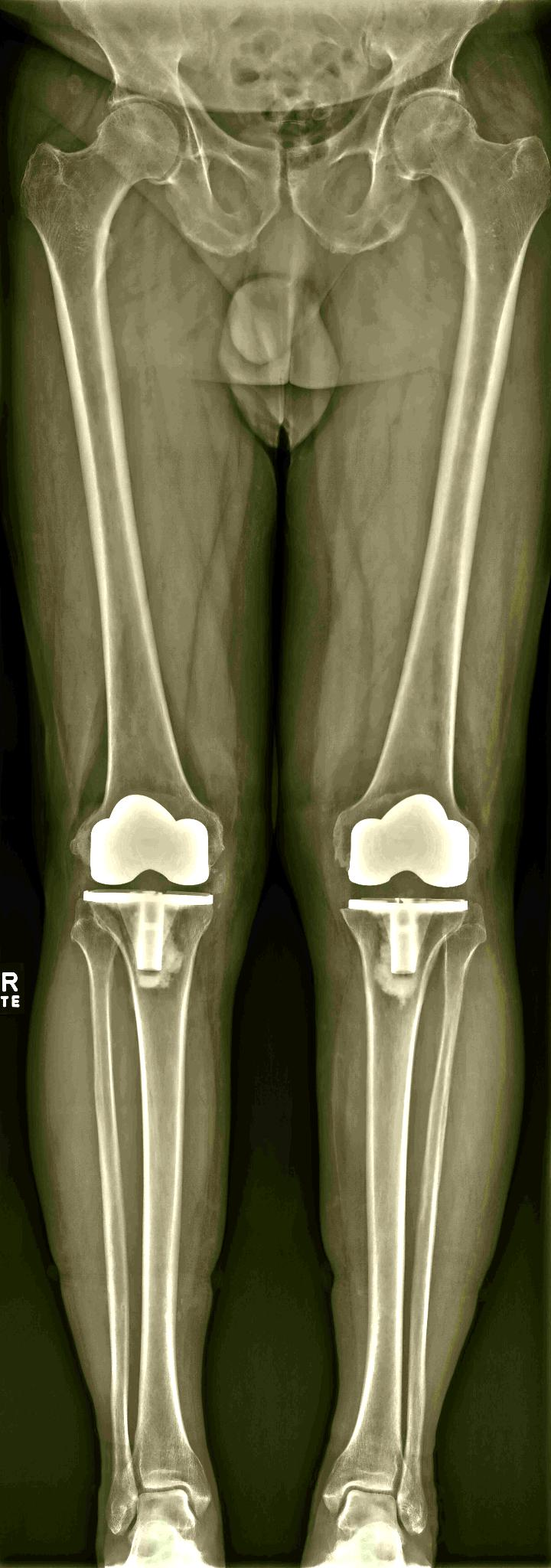Leg Fibula: (398, 905, 485, 1534), (72, 904, 137, 1535)
Leg Tibia: (324, 898, 467, 1513), (85, 890, 212, 1528)
femur: (335, 89, 550, 890), (23, 100, 222, 886)
